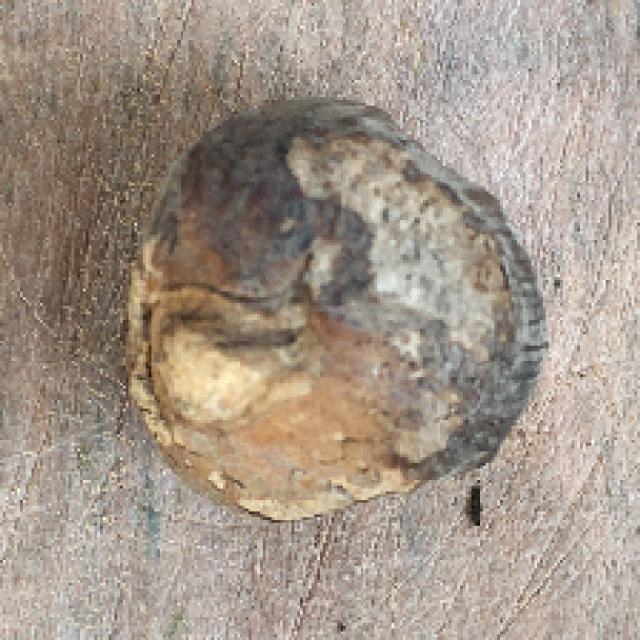damagedHazelnut: (127, 95, 534, 527)
